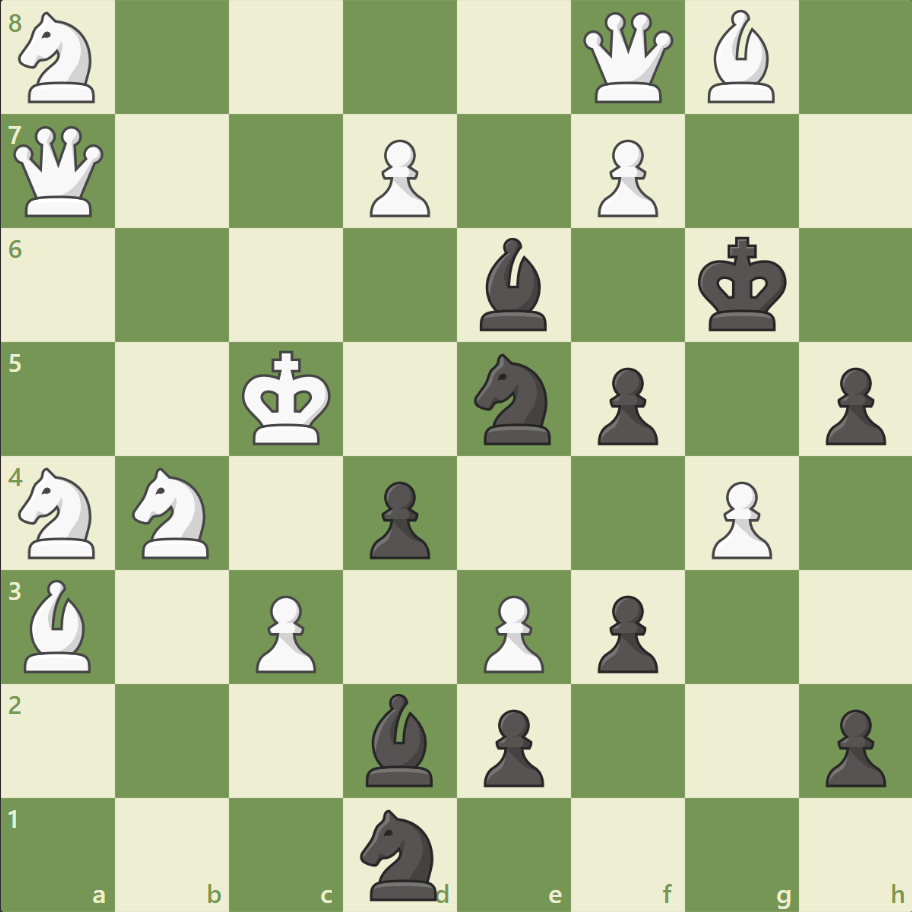B: (698, 6, 782, 109), (17, 574, 101, 676)
K: (238, 344, 338, 452)
N: (124, 461, 222, 564), (11, 7, 108, 110), (11, 461, 108, 564)
P: (701, 473, 776, 564), (247, 586, 322, 677), (474, 586, 549, 677), (361, 132, 435, 223), (588, 132, 662, 223)
Q: (10, 122, 109, 222), (578, 9, 677, 108)
b: (471, 233, 555, 336), (358, 687, 442, 790)
k: (692, 231, 792, 339)
n: (351, 802, 449, 904), (465, 348, 562, 450)
p: (474, 700, 549, 791), (588, 359, 662, 450), (815, 359, 889, 450), (361, 473, 435, 564), (588, 586, 662, 677), (815, 700, 889, 791)
